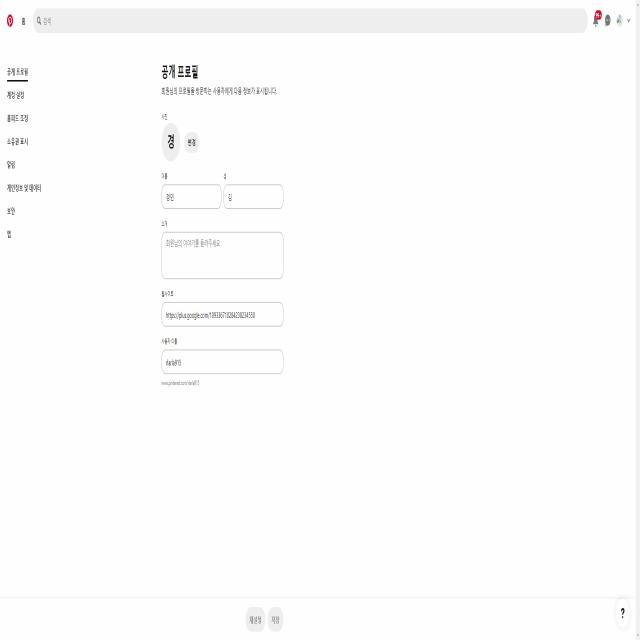menu-bar: (592, 8, 632, 32)
menu-panel: (3, 64, 45, 252)
search: (32, 5, 588, 36)
tab-bar: (6, 7, 28, 34)
